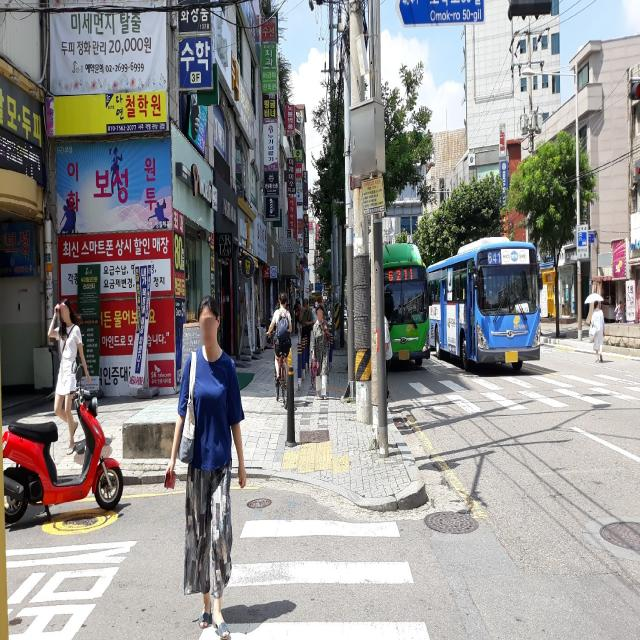횡단보도: (199, 519, 432, 640), (397, 368, 640, 420)
